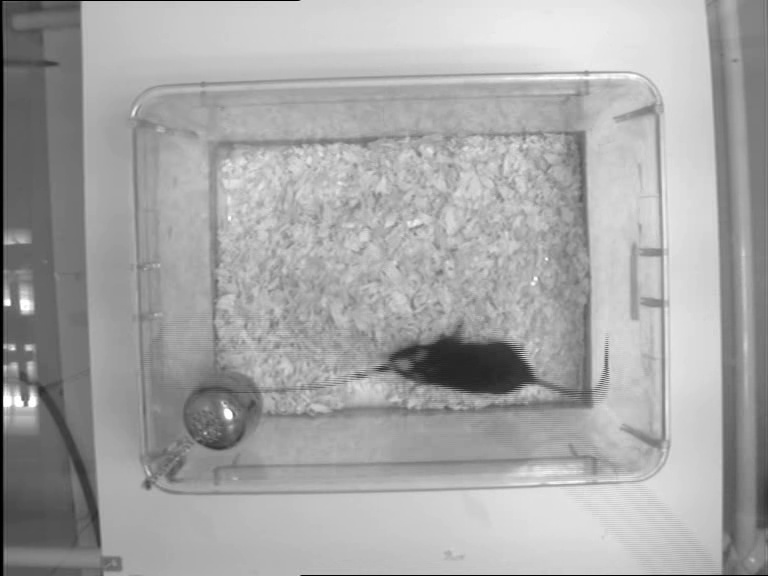mice: (384, 333, 614, 402)
